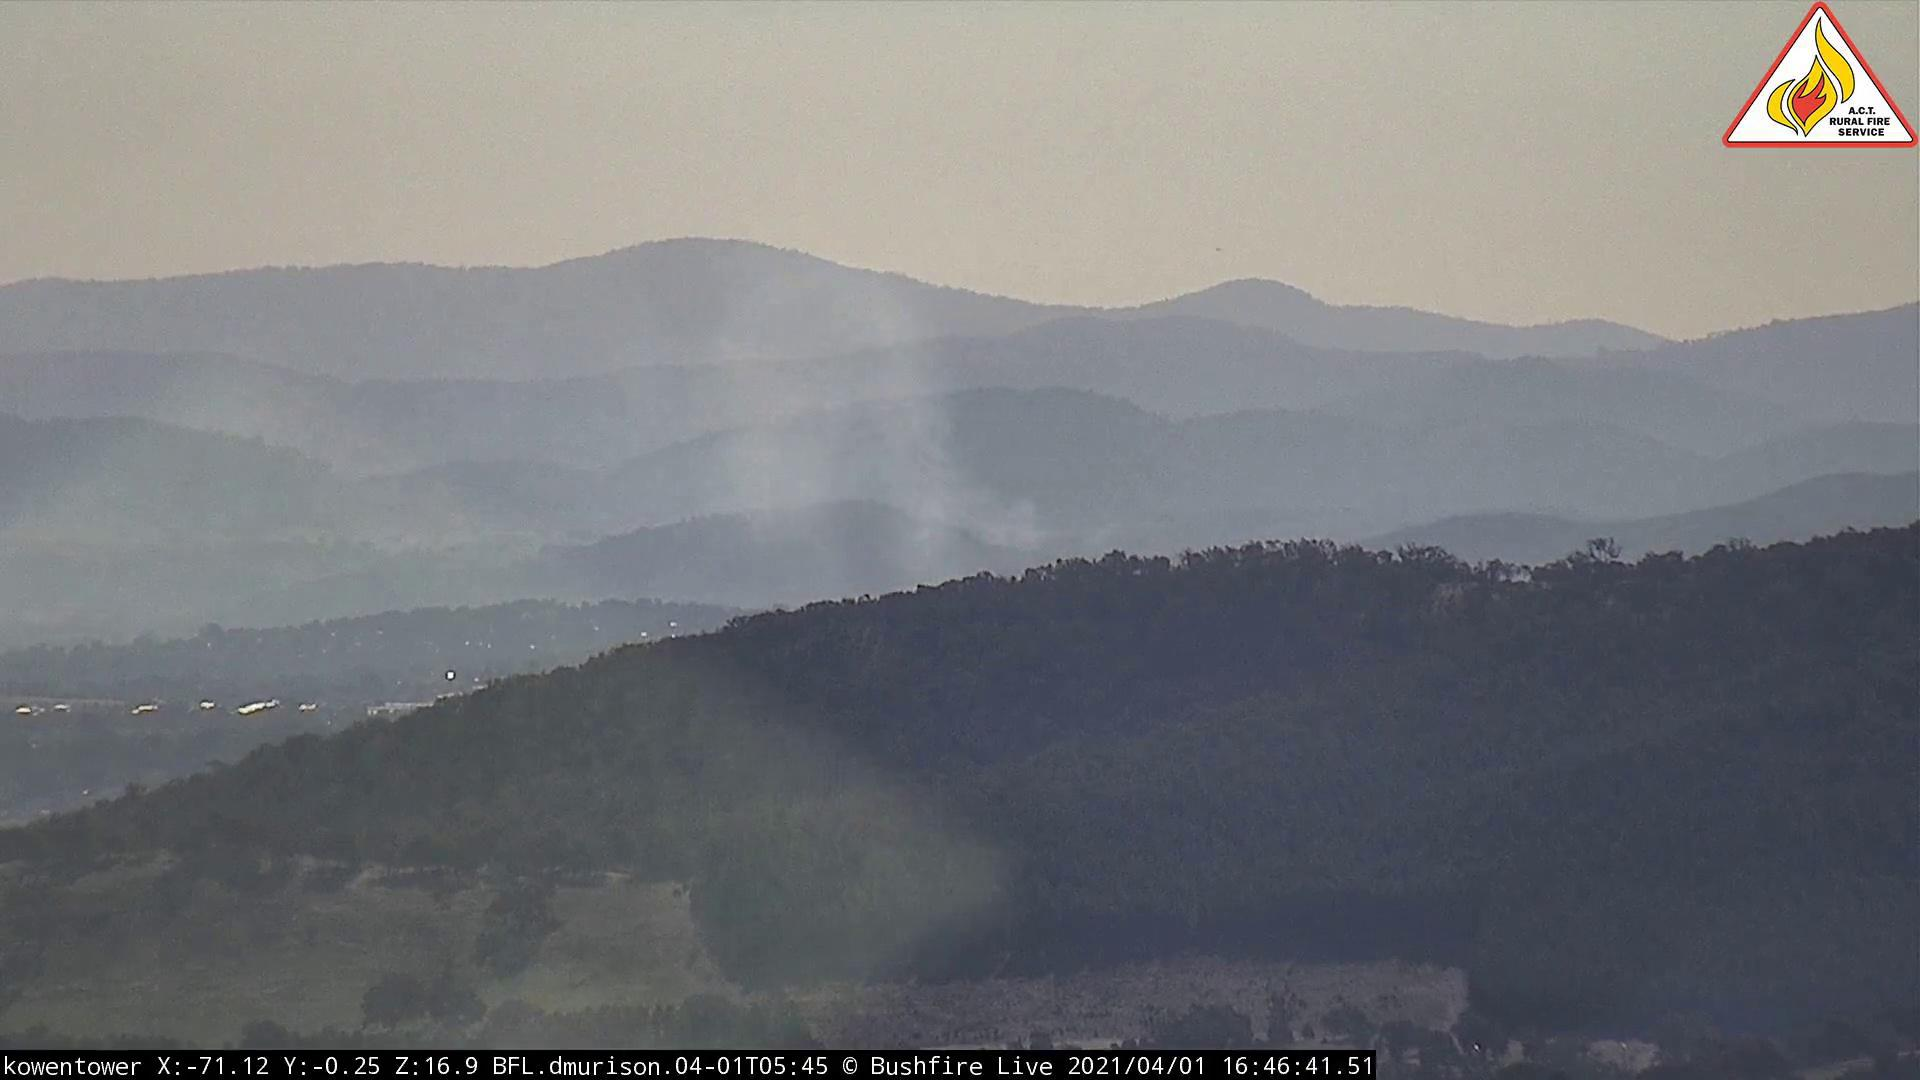Smoke: (665, 239, 1076, 609)
